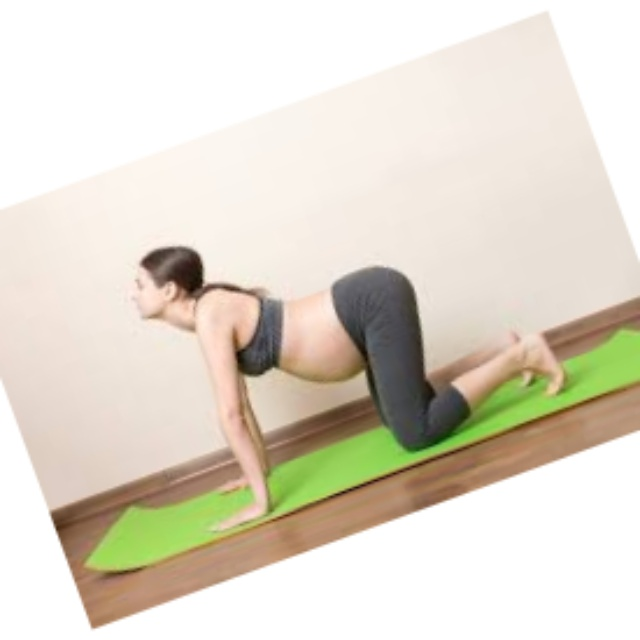Cow_Pose: (131, 245, 567, 537)
